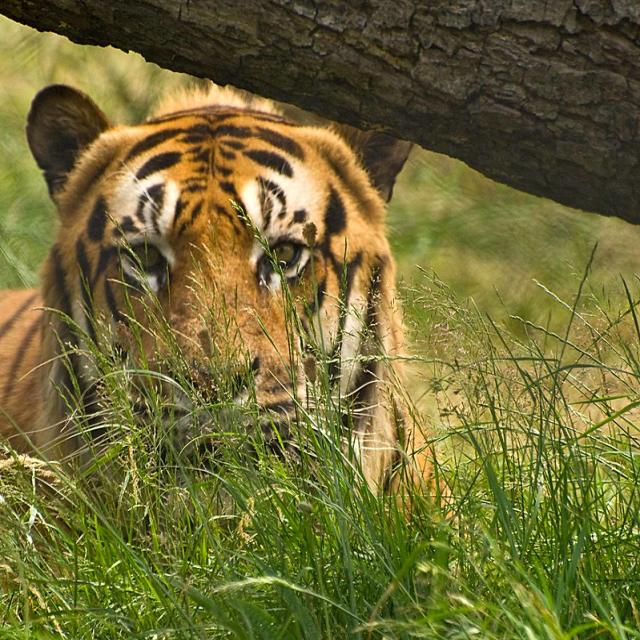Tiger: (0, 80, 453, 524)
